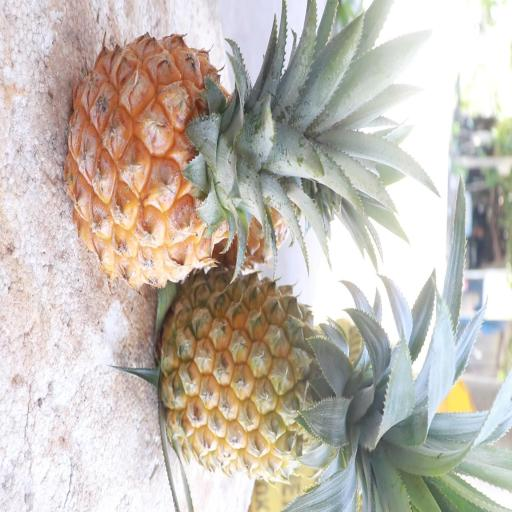Pineapple - v8 v1: (62, 24, 331, 295), (156, 259, 402, 488)
